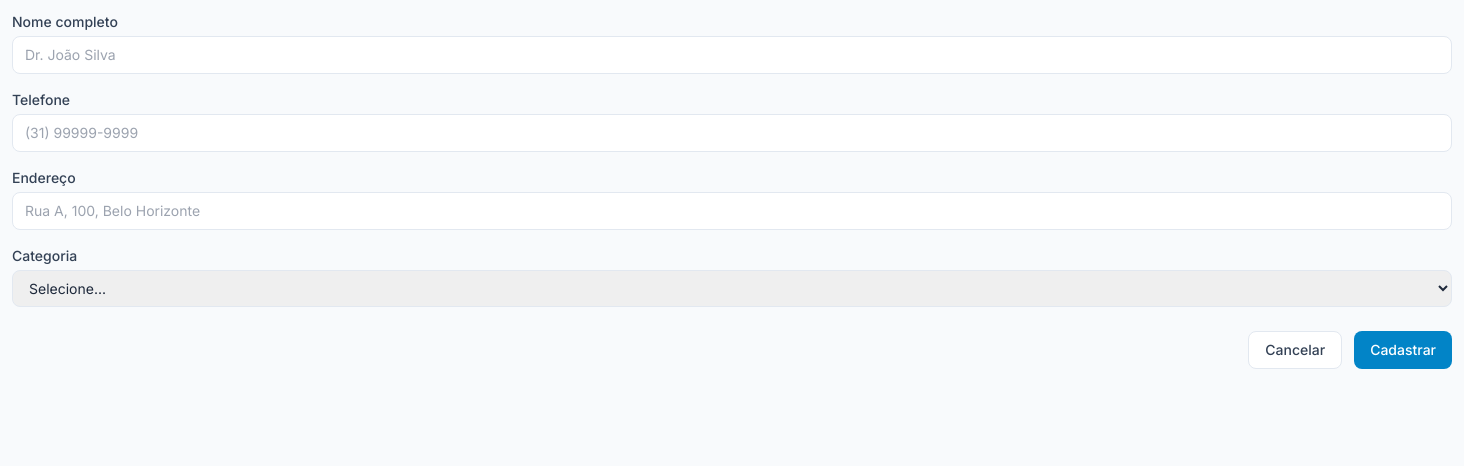
Test: FormProfissional › exibe erros de validação ao submeter vazio
The image size is (1464, 466).
Click the button "Cadastrar": (1403, 350) [1354, 331, 1452, 369]
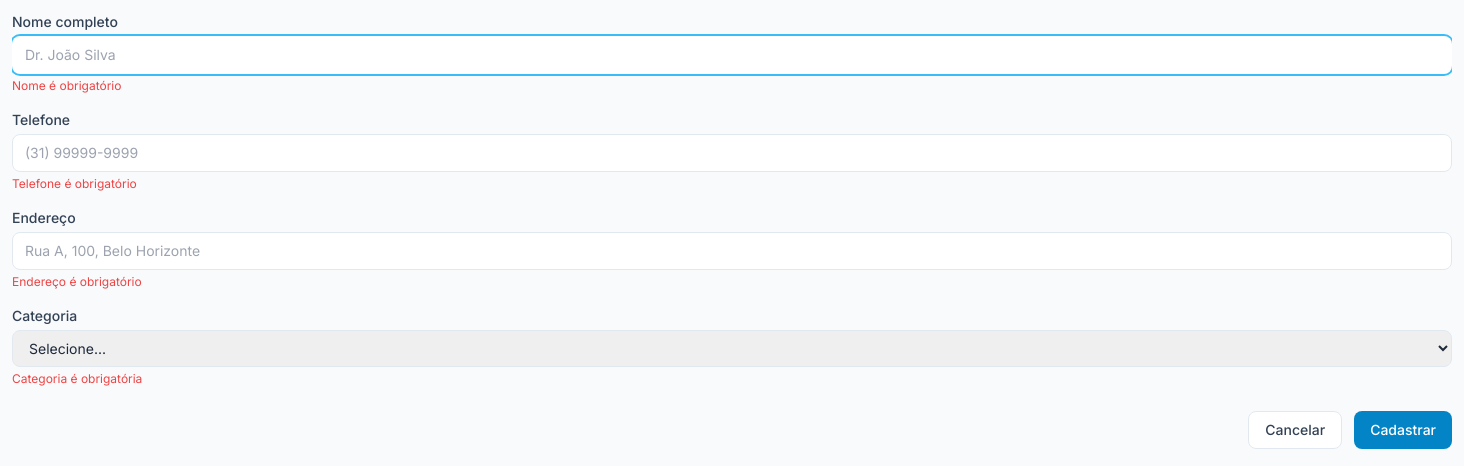
Check: the text "Nome é obrigatório" is shown, box [12, 78, 121, 93]
